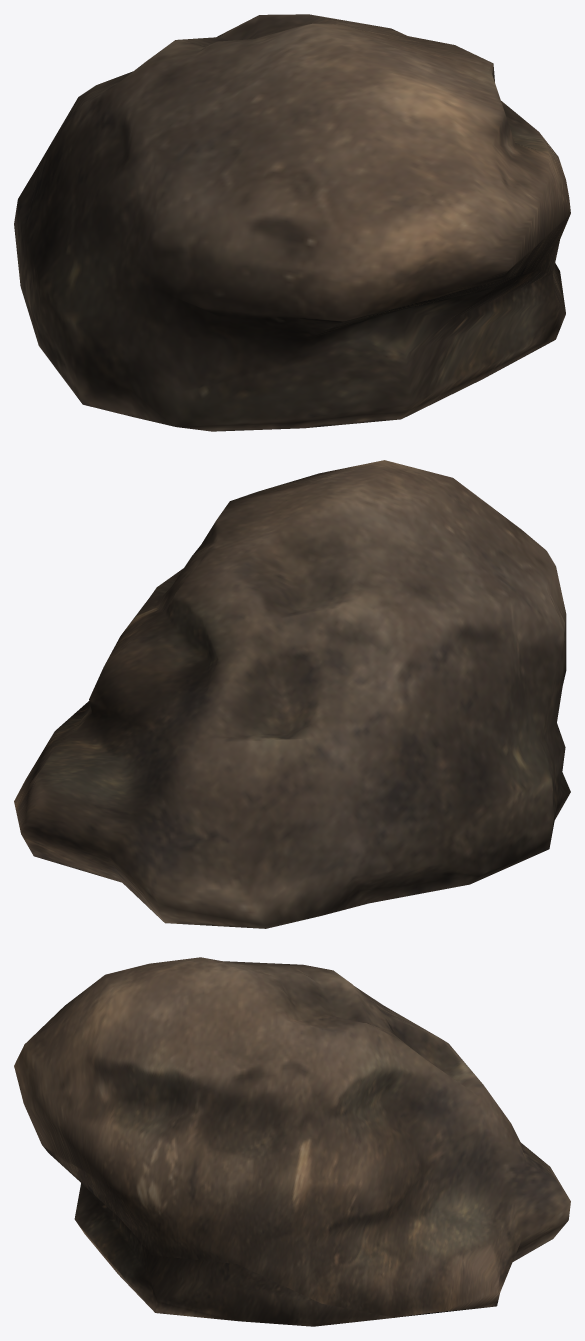
Rendered from rock.fbx.
The picture shows the model from 3 angles, top to bottom: view 1: azimuth 30°, elevation 25°; view 2: azimuth 150°, elevation 25°; view 3: azimuth 270°, elevation 25°; orthographic projection. The views are drawn at different scales.
Parts seen in each view (by area): view 1: Rock003; view 2: Rock003; view 3: Rock003.
Boxes of the visible parts, left/top/right/bottom form: Rock003: left=14, top=14, right=570, bottom=431; Rock003: left=14, top=460, right=570, bottom=928; Rock003: left=14, top=957, right=570, bottom=1326.
Bounding box in the file's own units: 49.52 × 31.45 × 59.64.
1 material, 1 textured.
